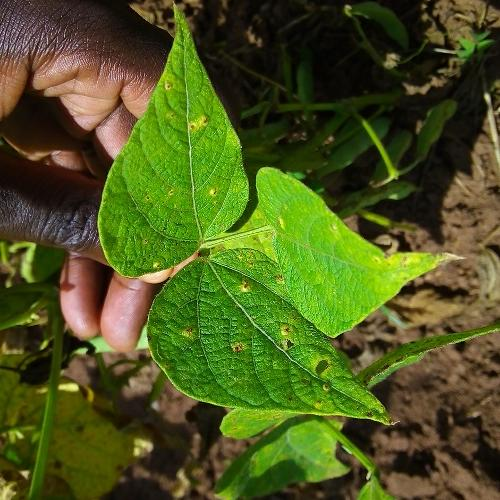hawar: (258, 298, 339, 386), (218, 236, 288, 294), (218, 325, 249, 359), (174, 312, 199, 344)
mozaik: (125, 121, 236, 217), (312, 247, 370, 289)
